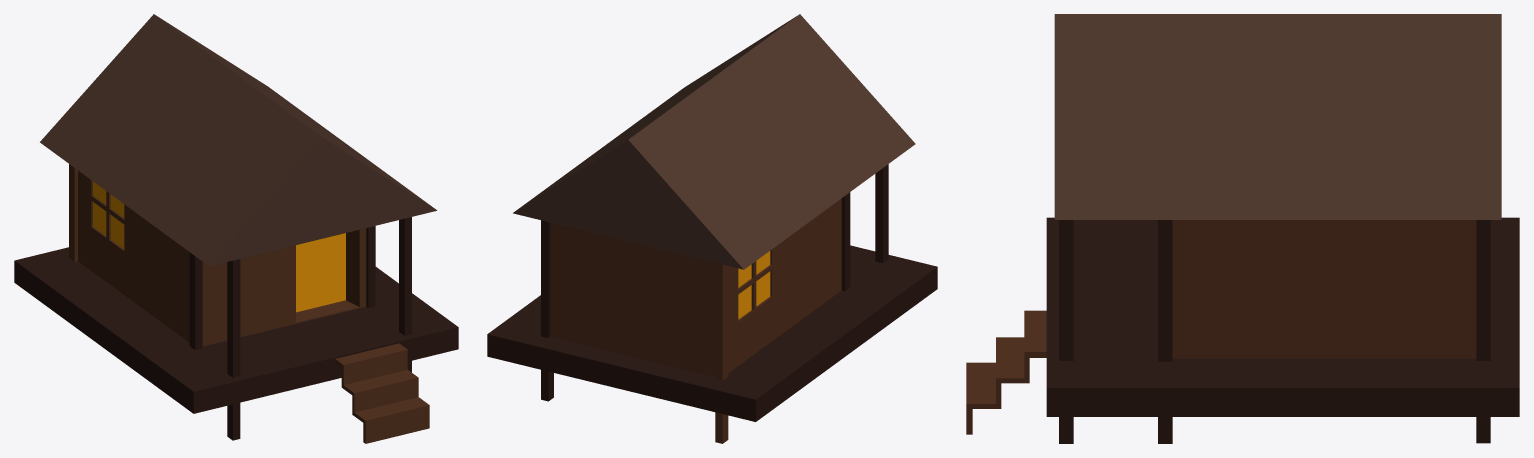
File: N_house.FBX
3 renders of one model, left to right at view 1: azimuth 30°, elevation 25°; view 2: azimuth 150°, elevation 25°; view 3: azimuth 270°, elevation 25°, orthographic. The views are drawn at different scales.
Parts seen in each view (by area): view 1: Box001; view 2: Box001; view 3: Box001.
Part boxes in pixels (x1=…): Box001: x1=14, y1=14, x2=458, y2=443; Box001: x1=487, y1=14, x2=937, y2=443; Box001: x1=966, y1=14, x2=1519, y2=443.
Size of the model in its own units: 139 by 142 by 191.
